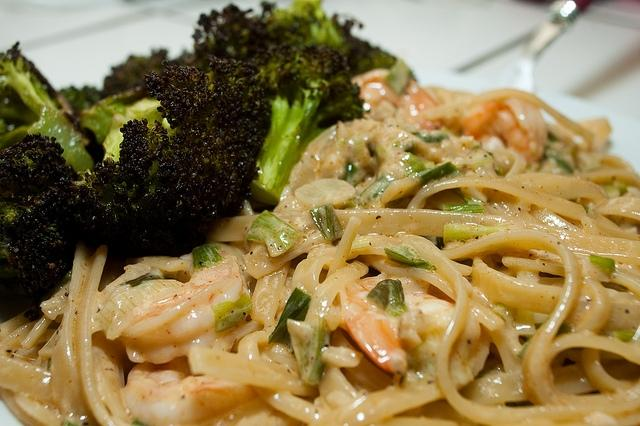broccoli: (56, 54, 272, 260), (250, 44, 370, 206), (1, 41, 106, 172), (4, 132, 81, 297), (192, 4, 305, 60), (102, 49, 168, 99), (81, 97, 127, 146), (306, 18, 358, 56), (272, 8, 312, 46), (59, 85, 102, 113)
